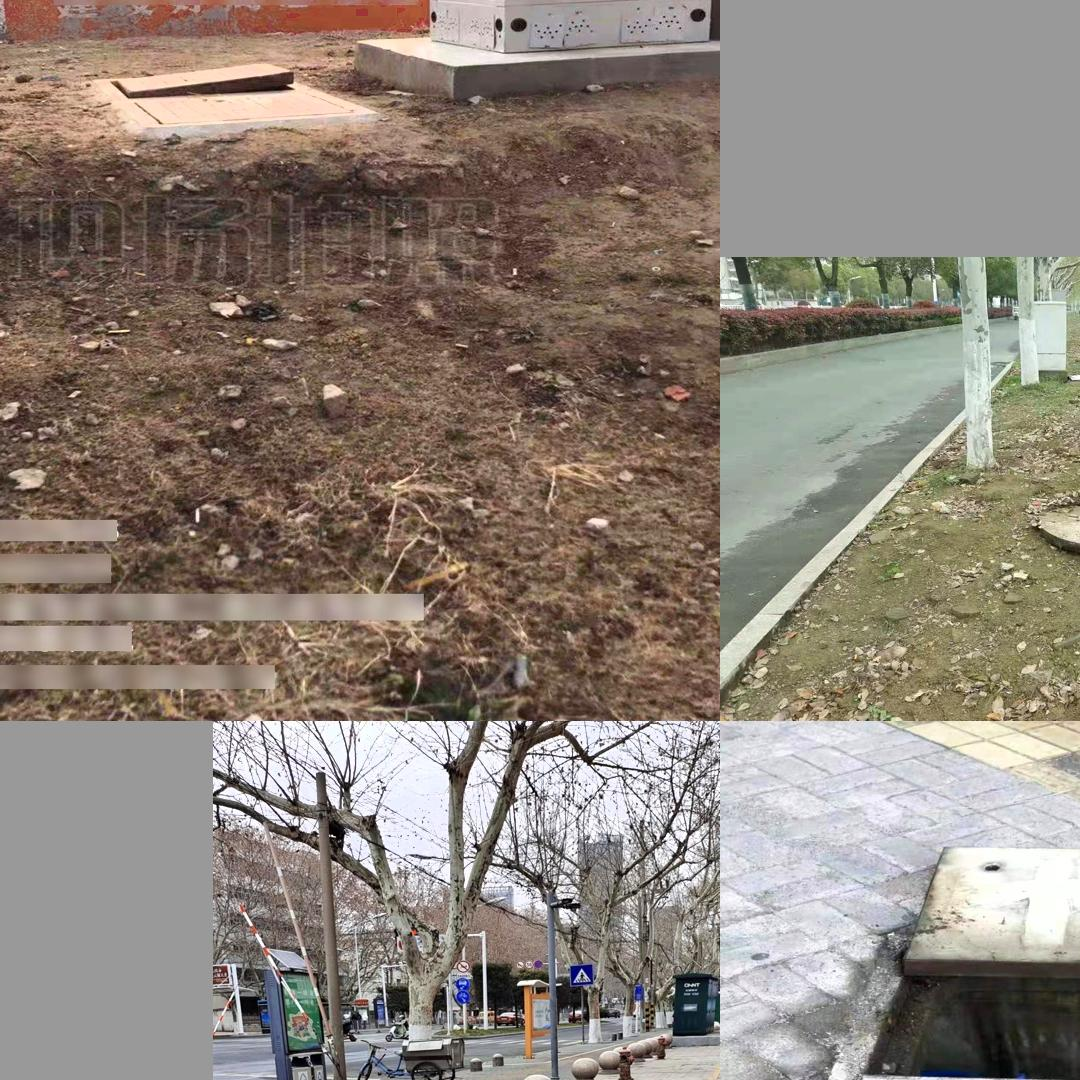uncovered: (745, 842, 1080, 1080), (100, 56, 384, 122), (1038, 507, 1080, 559)
